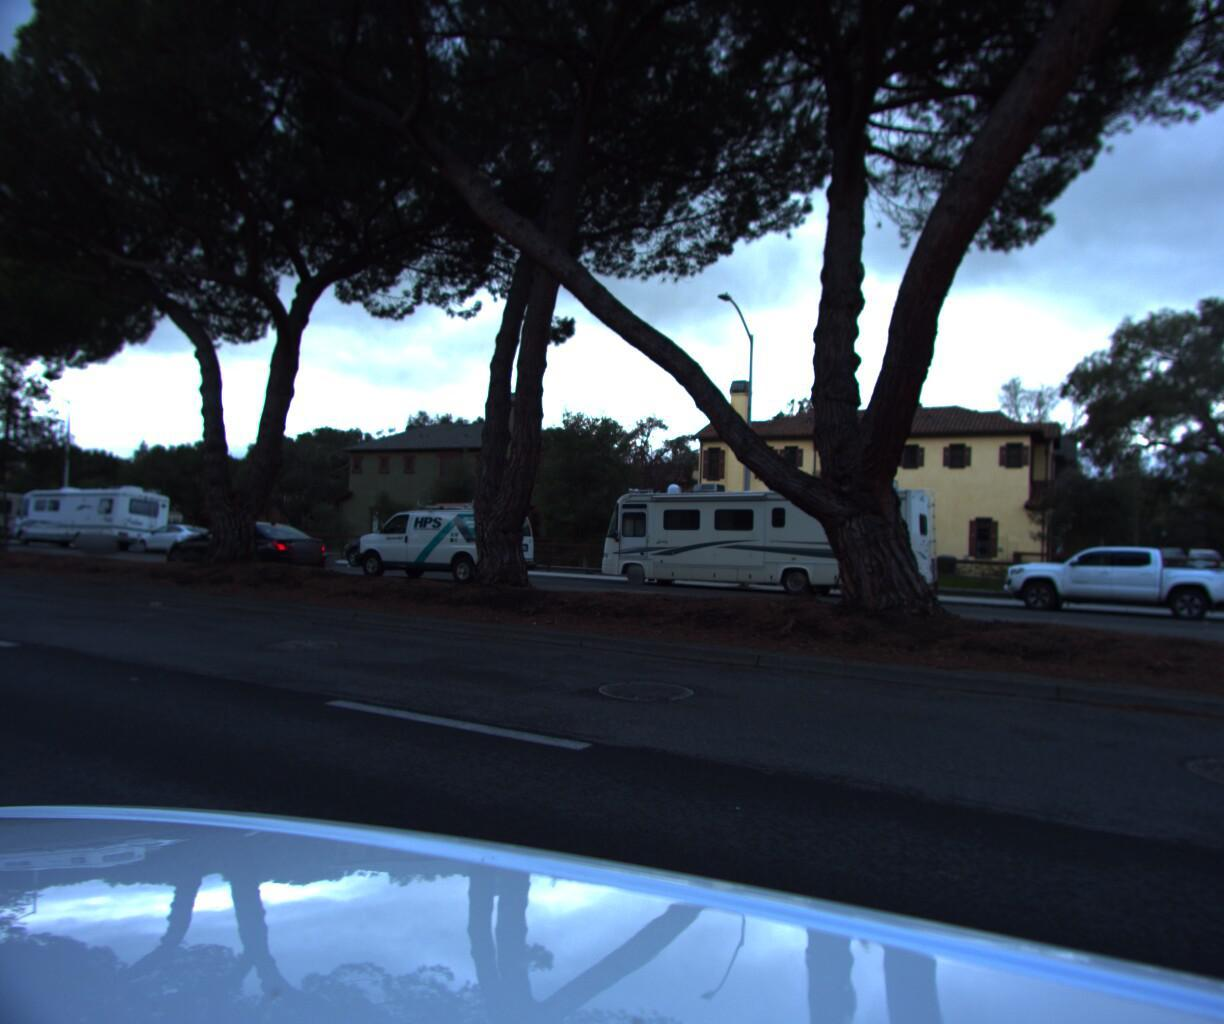car: (992, 531, 1224, 622), (352, 500, 545, 587), (155, 523, 342, 581), (334, 524, 455, 576), (127, 524, 226, 561)
other_vehicle: (587, 468, 944, 606), (3, 486, 178, 558), (0, 489, 35, 549)
